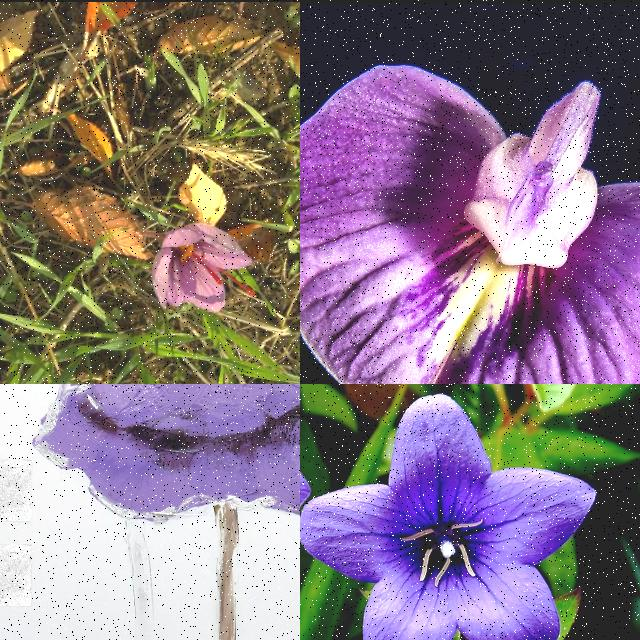flower: (151, 222, 257, 314)
